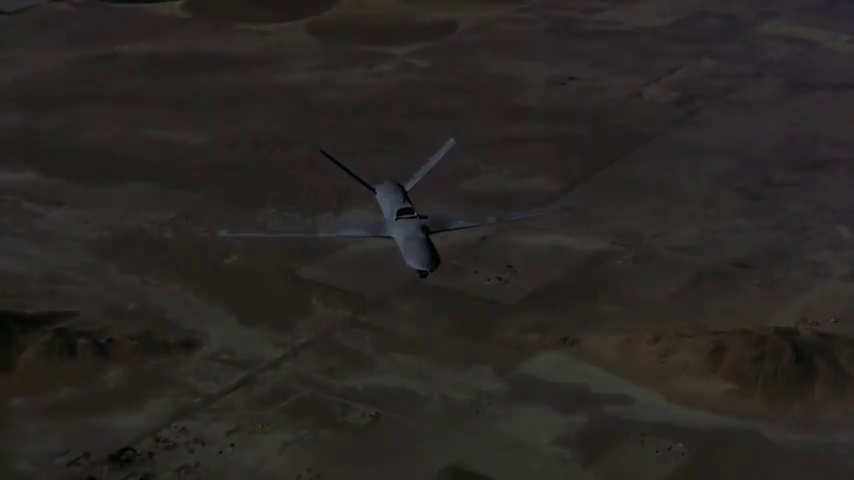military drone: (215, 137, 577, 277)
